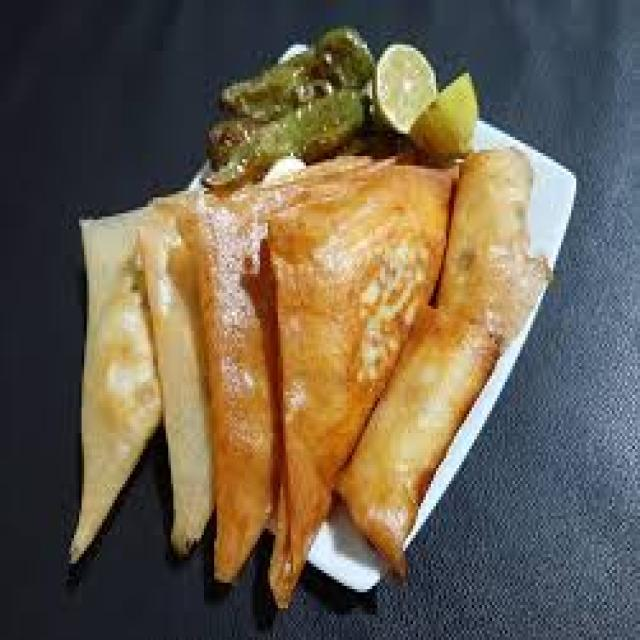brik: (254, 143, 472, 544), (379, 143, 559, 609), (39, 207, 222, 569), (172, 164, 306, 594)
